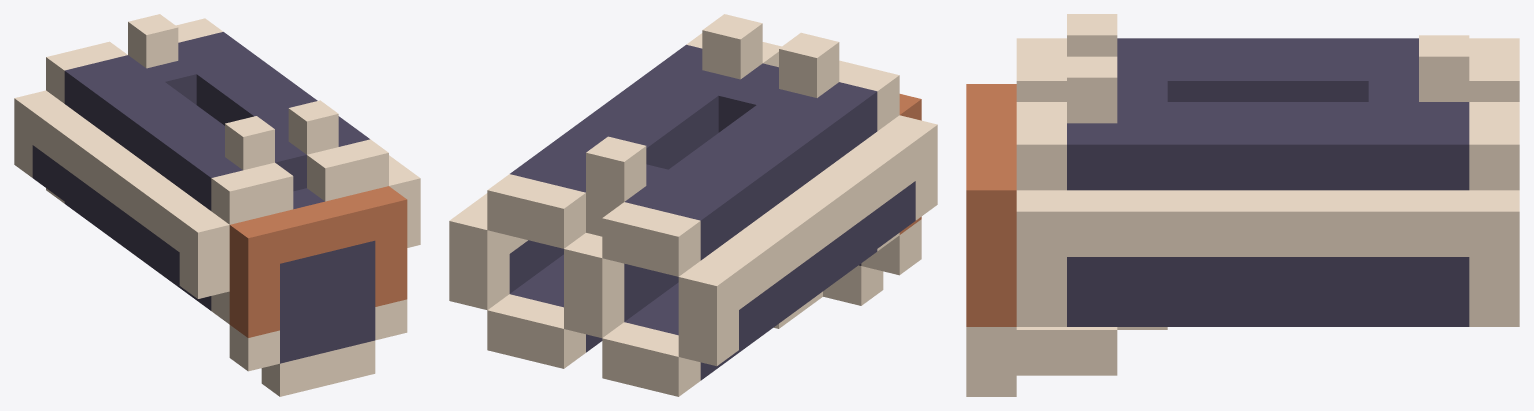
File: shotgun head.obj
3 renders of one model, left to right at view 1: azimuth 30°, elevation 25°; view 2: azimuth 150°, elevation 25°; view 3: azimuth 270°, elevation 25°, orthographic. The views are drawn at different scales.
Bounding box in the file's own units: 0.7 × 0.7 × 1.1.
1 material, 1 textured.
